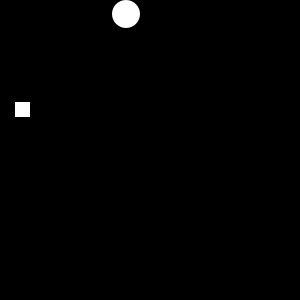circle: (15, 102, 30, 117)
rectangle: (112, 0, 140, 28)
